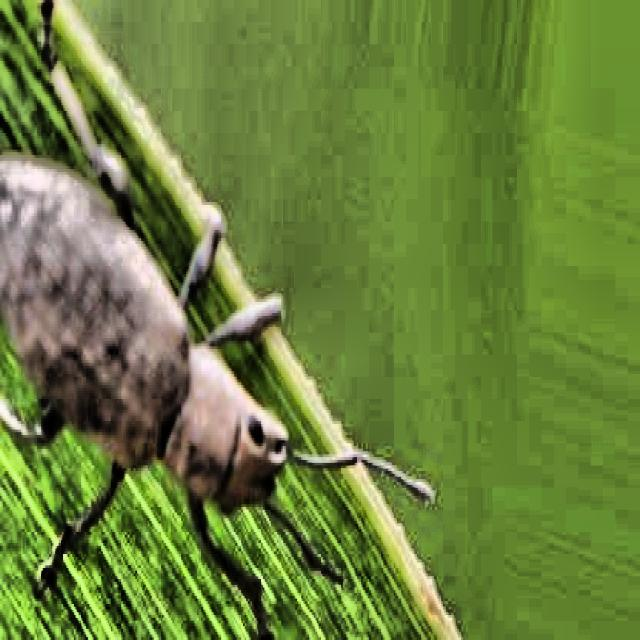Stink bug: (0, 86, 368, 640)
